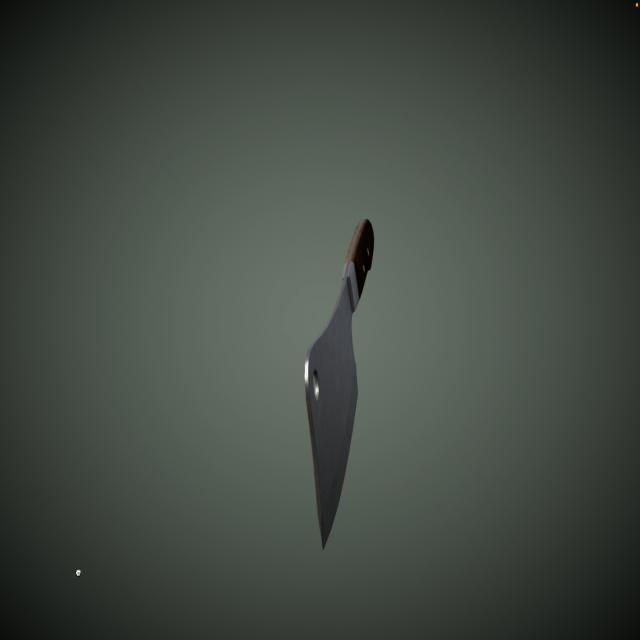cleaver: (290, 190, 386, 569)
